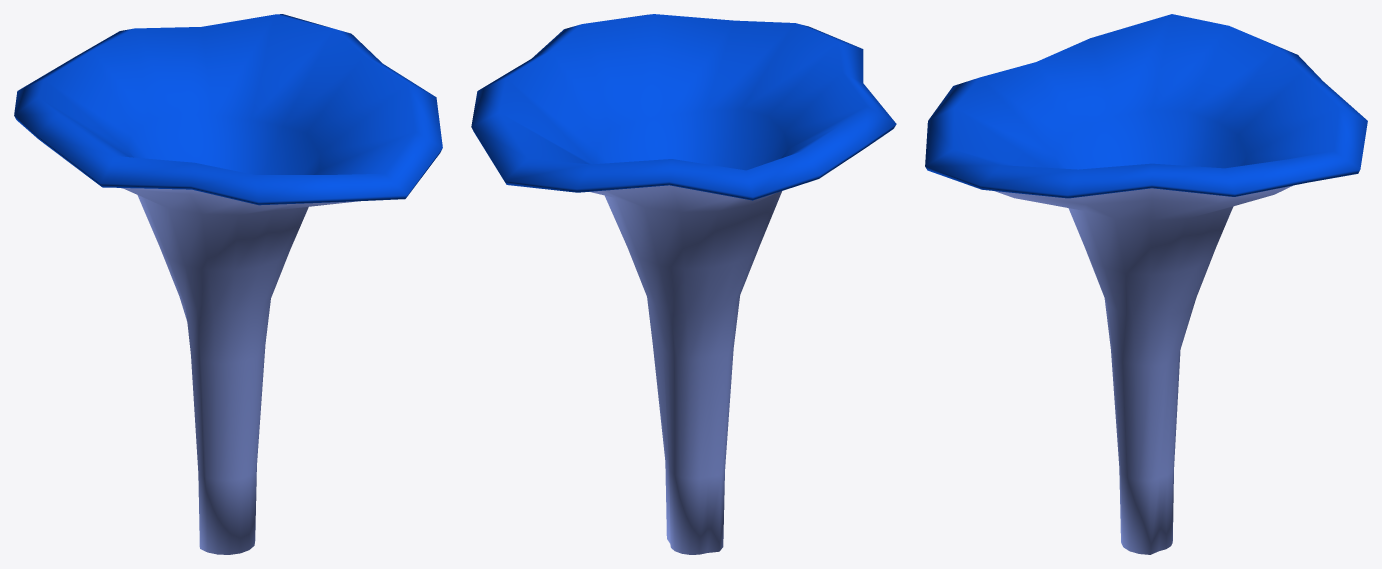
The model's file is SK_Mushroom_03.fbx.
The picture shows the model from 3 angles, left to right: view 1: azimuth 30°, elevation 25°; view 2: azimuth 150°, elevation 25°; view 3: azimuth 270°, elevation 25°; orthographic projection. The views are drawn at different scales.
Parts seen in each view (by area): view 1: Mushroom 03; view 2: Mushroom 03; view 3: Mushroom 03.
Boxes of the visible parts, x1,y1,x2,y2 form: Mushroom 03: (14, 14, 442, 554); Mushroom 03: (471, 14, 896, 554); Mushroom 03: (925, 14, 1367, 554).
Size of the model in its own units: 354 by 446 by 395.
